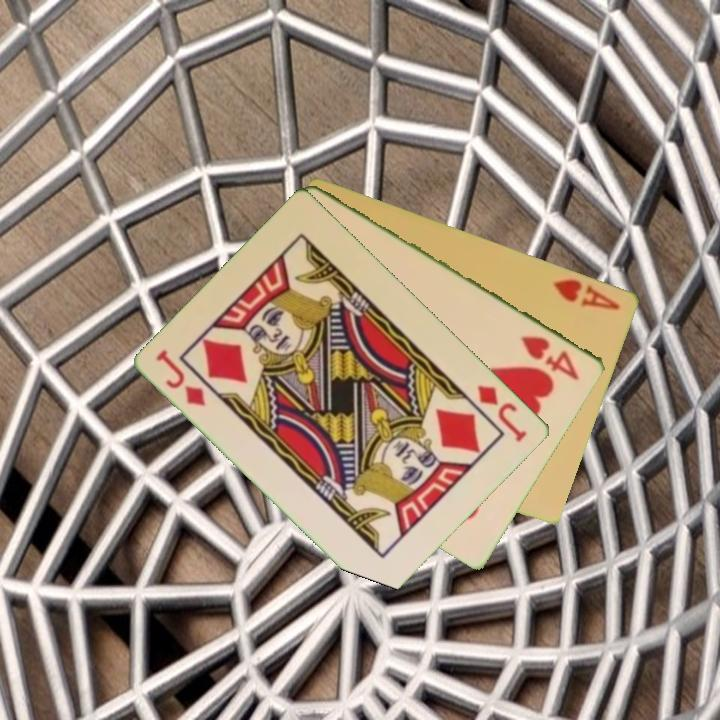4h: (517, 332, 583, 383)
Ah: (549, 275, 623, 313)
Jd: (474, 381, 531, 445), (153, 346, 210, 409)
